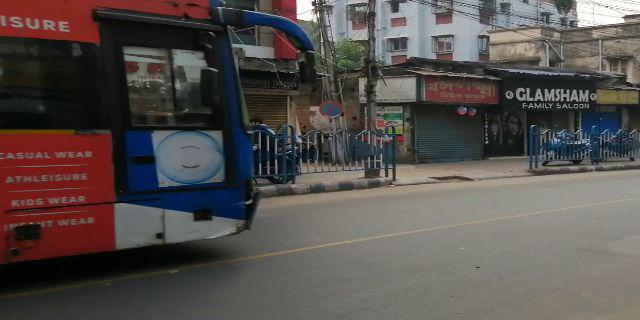Bus: (1, 1, 257, 261)
